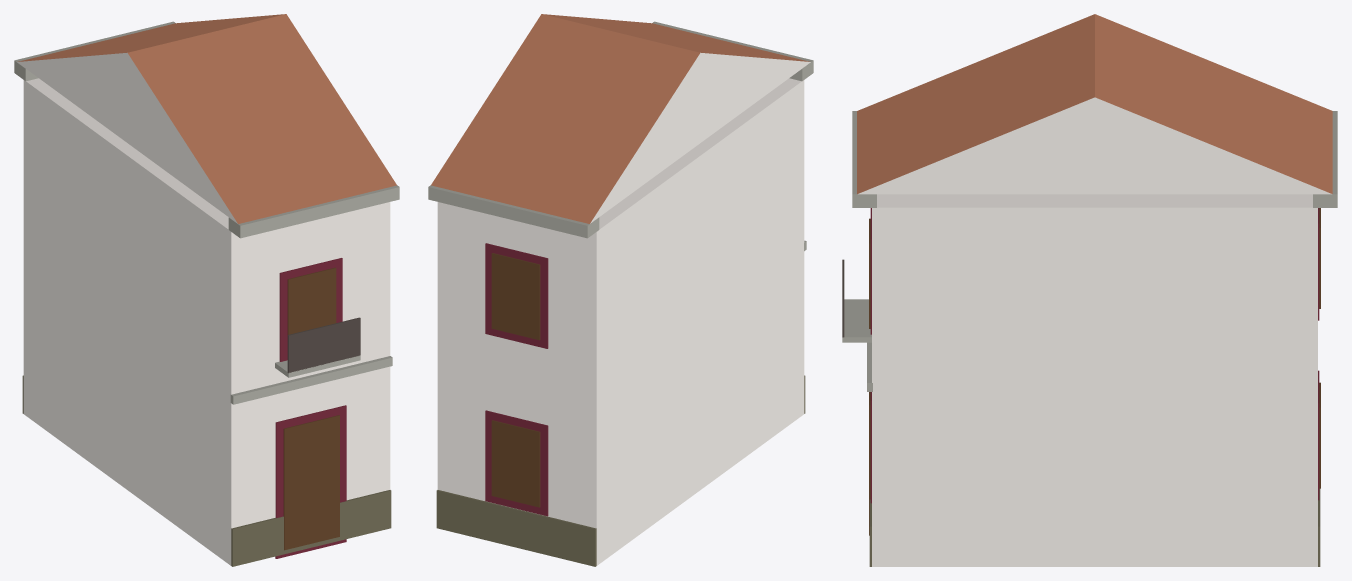
File: SM_KitCuerpo_v0_LOD0.fbx
The picture shows the model from 3 angles, left to right: view 1: azimuth 30°, elevation 25°; view 2: azimuth 150°, elevation 25°; view 3: azimuth 270°, elevation 25°; orthographic projection. The views are drawn at different scales.
Visible parts, largest first — view 1: SM_bloques.kit_cuerpo_v0_LOD0; view 2: SM_bloques.kit_cuerpo_v0_LOD0; view 3: SM_bloques.kit_cuerpo_v0_LOD0.
Part boxes in pixels (bbox=[...]): SM_bloques.kit_cuerpo_v0_LOD0: bbox=[14, 14, 399, 566]; SM_bloques.kit_cuerpo_v0_LOD0: bbox=[428, 14, 813, 566]; SM_bloques.kit_cuerpo_v0_LOD0: bbox=[842, 14, 1337, 566].
Bounding box in the file's own units: 3.99 × 10.54 × 10.
